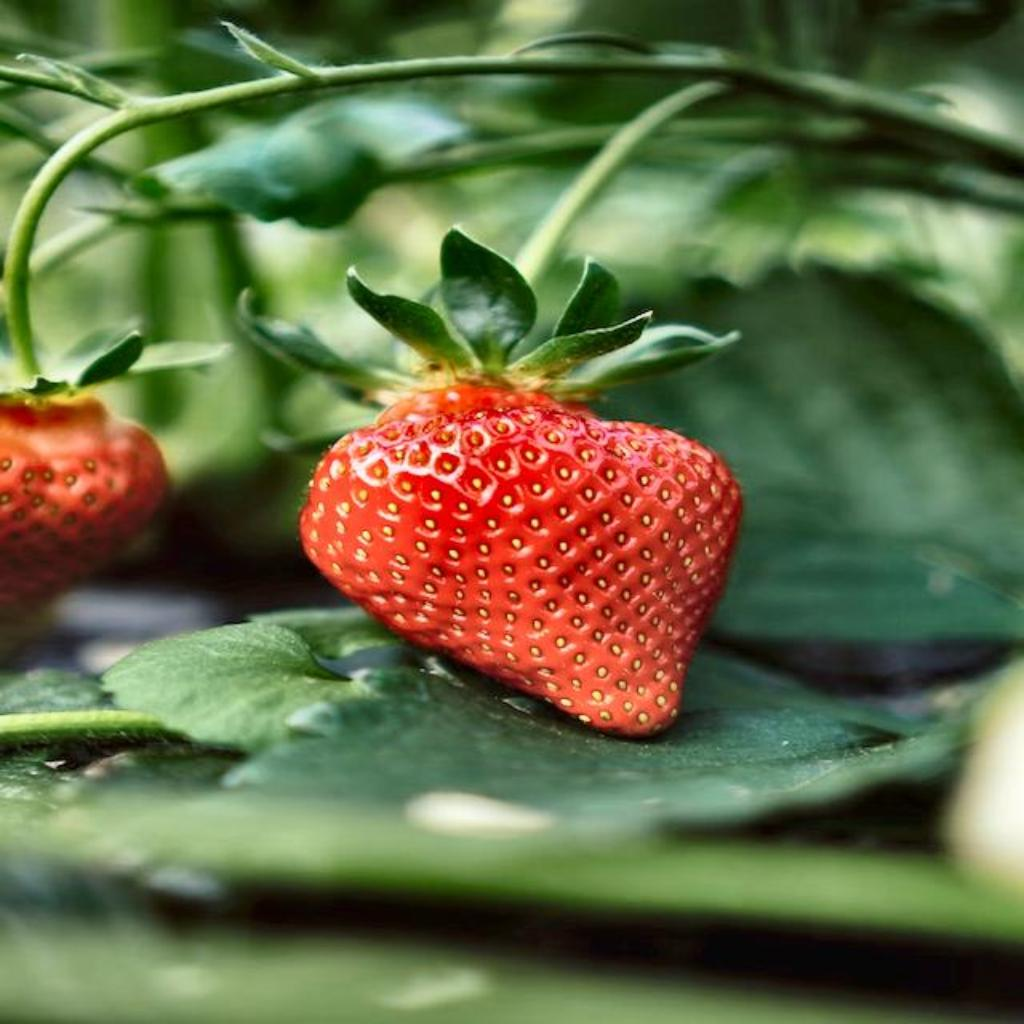strawberry: (300, 384, 740, 737), (0, 394, 168, 607)
